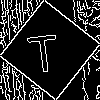T: (25, 25, 61, 74)
